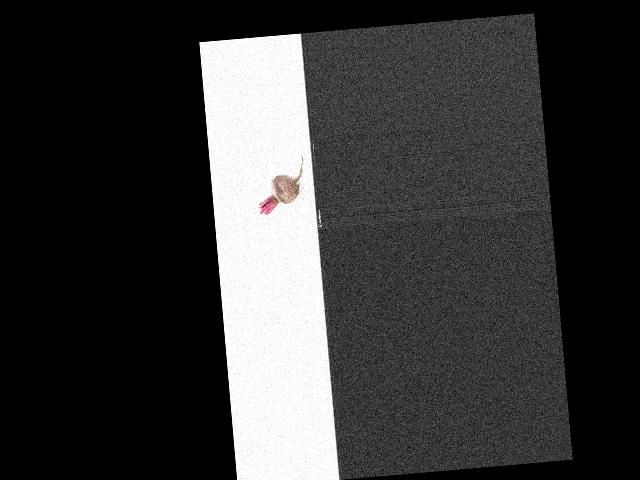beet: (255, 155, 307, 215)
